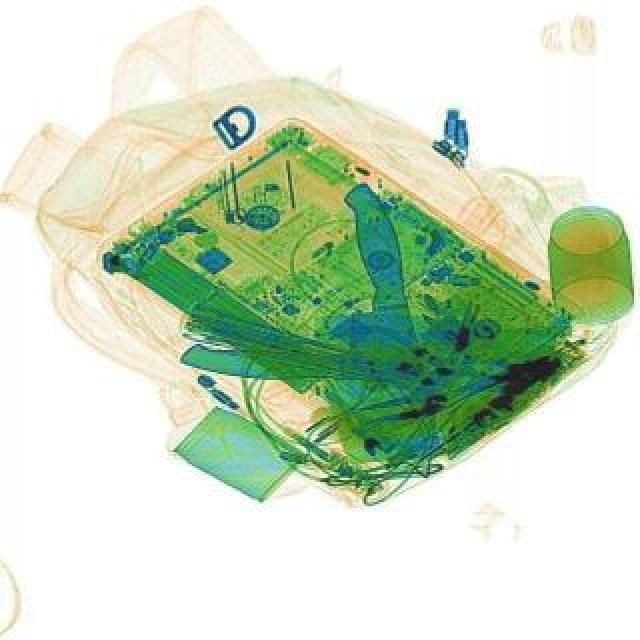knife: (278, 178, 448, 472), (182, 302, 554, 394)
